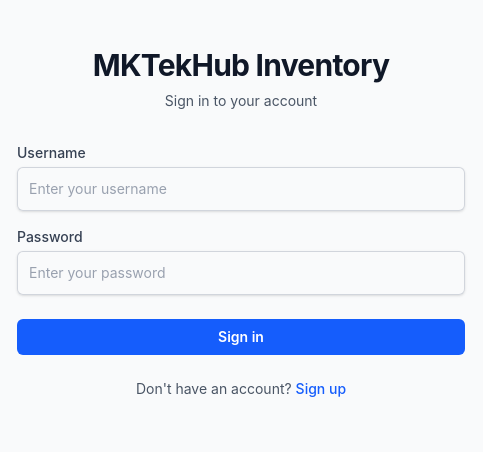
Test case: LoginPage › Form Submission - Error Handling › should display error message on login failure
The image size is (483, 452).
Type "wronguser" into the field with placeholder "Enter your username" at (241, 189), box [17,167,465,211]
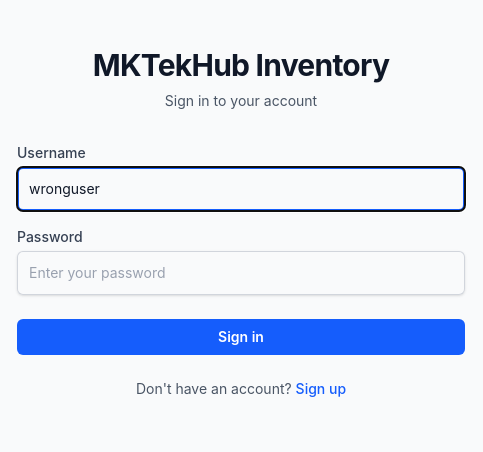
Type "wrongpass" into the password field with placeholder "Enter your password" at (241, 273), box [17,251,465,295]
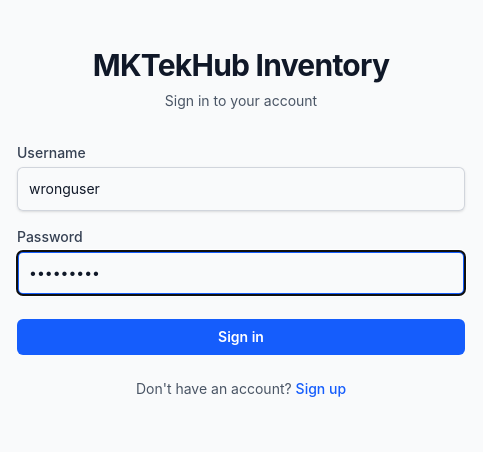
Click the button "Sign in" at (241, 337), box [17,319,465,355]
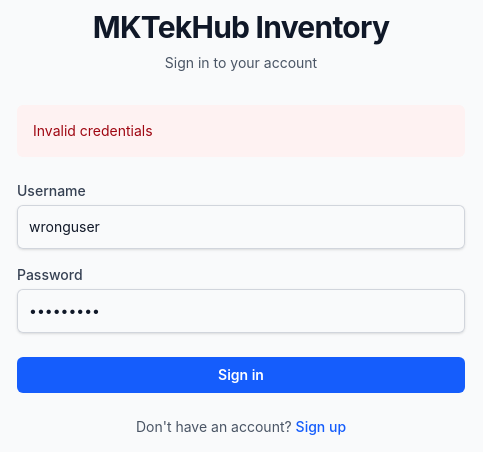
expect the text "Invalid credentials" is shown: met, box [33,122,153,139]
